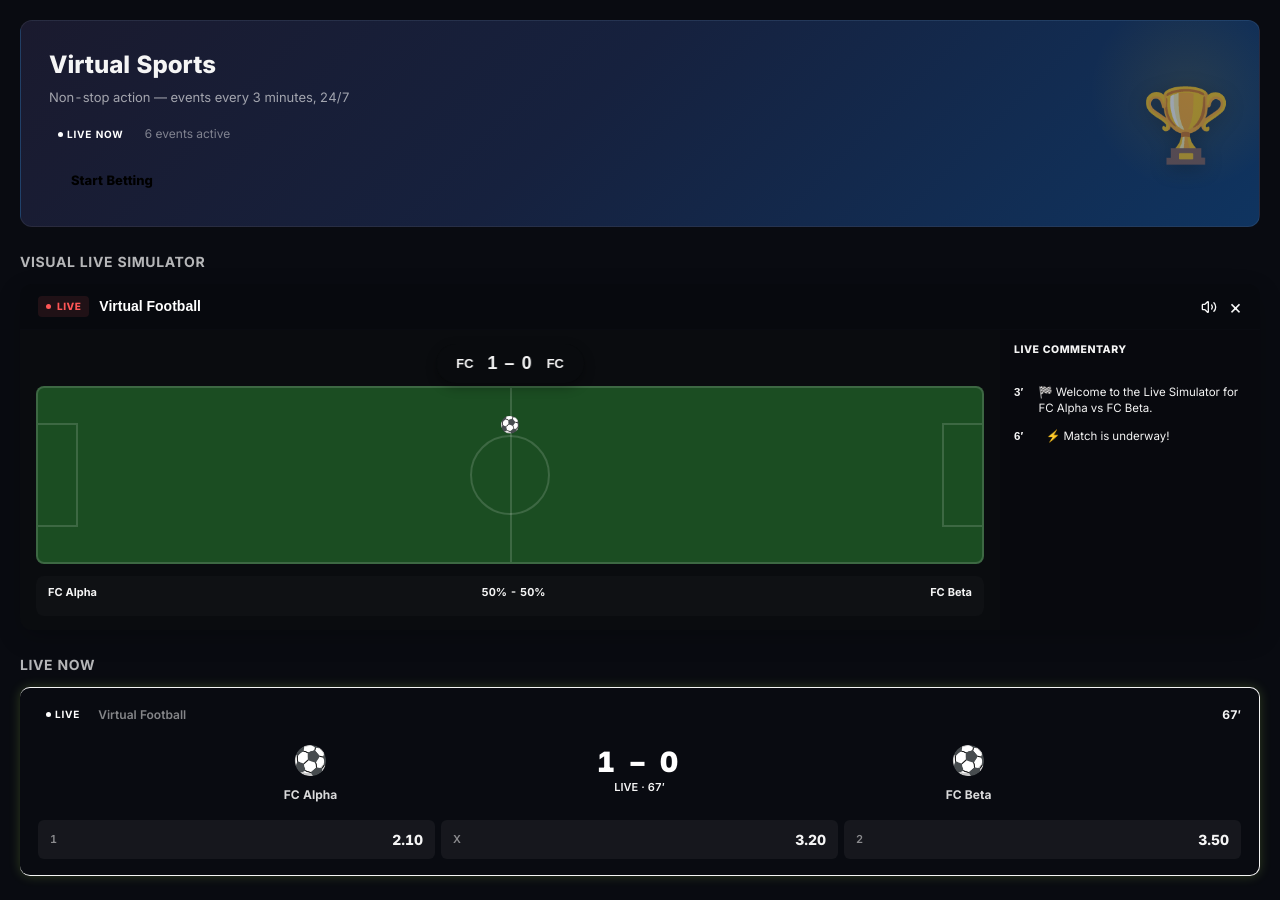
Test: Virtuals Component › Toast Messages › displays toast on Start Betting button click
What coordinates should you click on to do the following:
click the button "Start Betting"
I would click on:
 (112, 180)
Its box is [49,160,175,200].
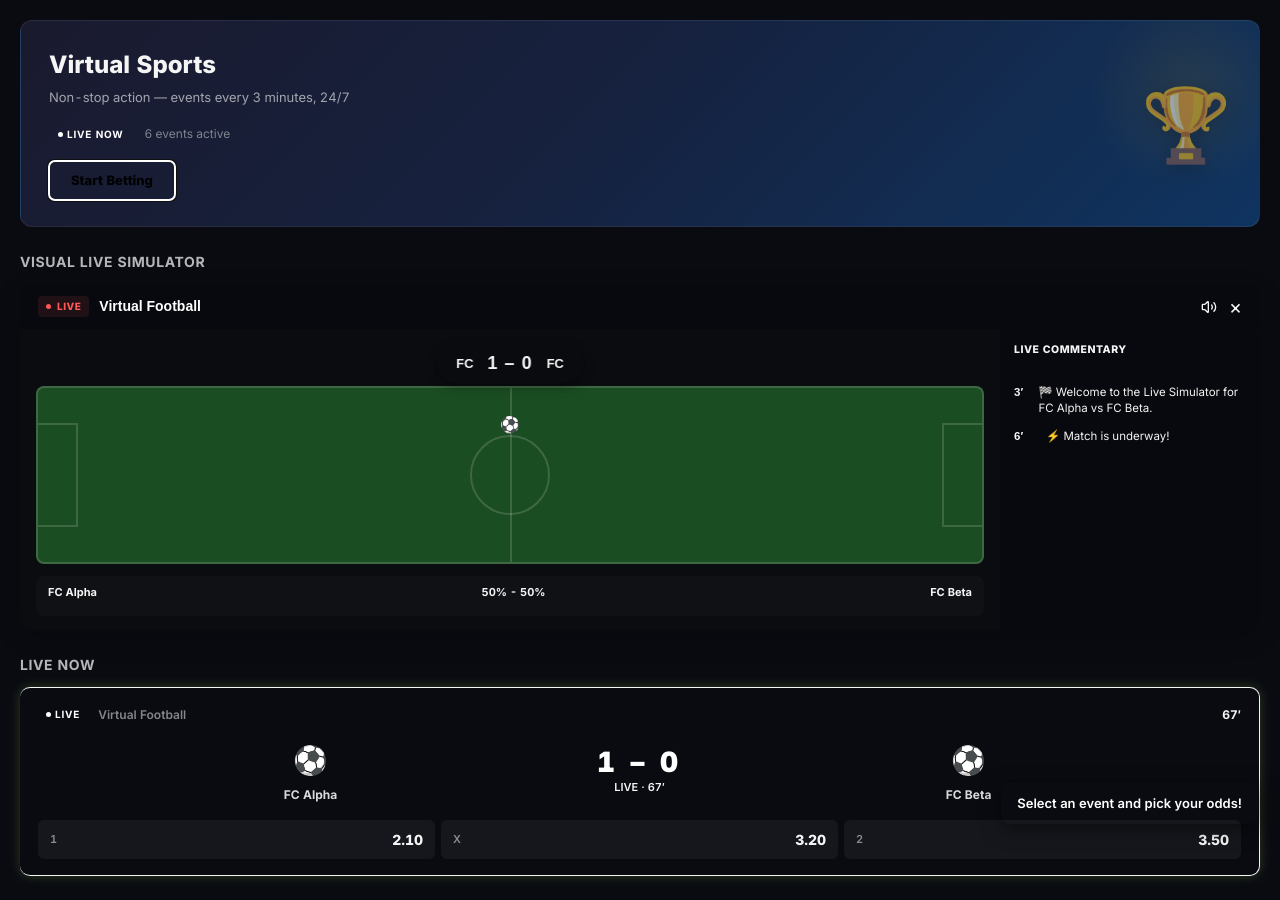
Result: the text "Select an event and pick your odds!" is shown at [1001,782,1258,824]
